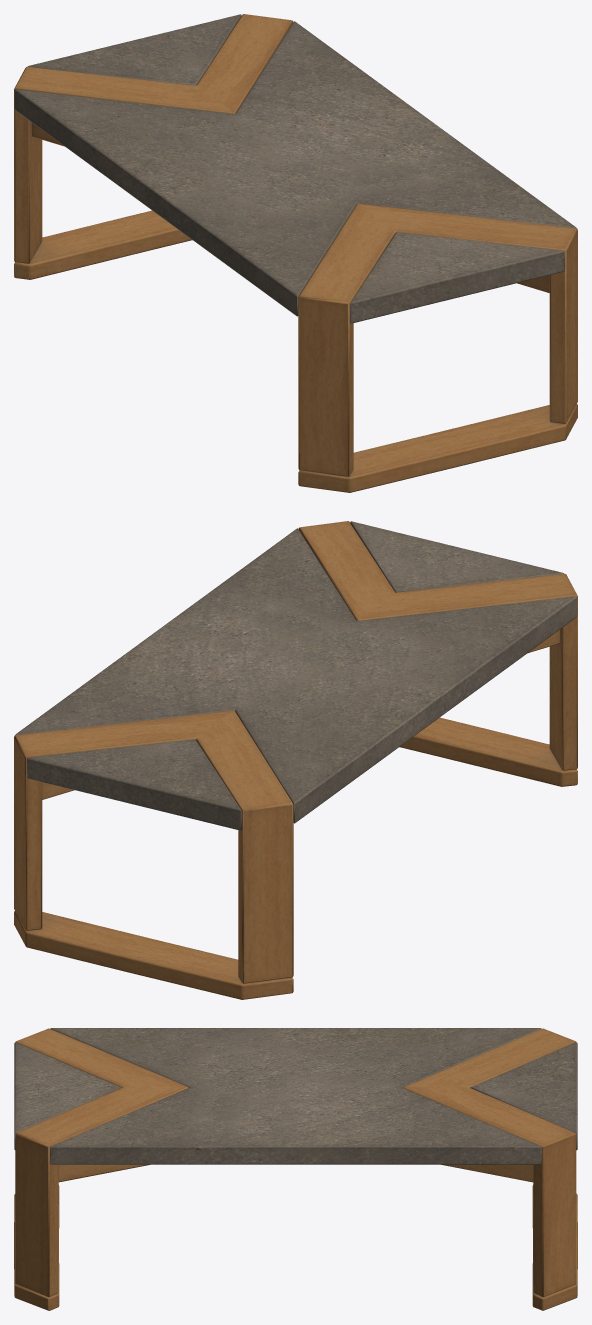
The model's file is modern_coffee_table_01.glb.
3 views of the same model, one above another, from view 1: azimuth 30°, elevation 25°; view 2: azimuth 150°, elevation 25°; view 3: azimuth 270°, elevation 25° (orthographic). The views are drawn at different scales.
Visible parts, largest first — view 1: modern_coffee_table_01; view 2: modern_coffee_table_01; view 3: modern_coffee_table_01.
Boxes of the visible parts, x1,y1,x2,y2 form: modern_coffee_table_01: [14, 14, 577, 492]; modern_coffee_table_01: [14, 521, 577, 999]; modern_coffee_table_01: [14, 1028, 577, 1310].
Bounding box in the file's own units: 0.5999 × 0.39 × 1.2.
Materials: 1 (1 with a texture image).
